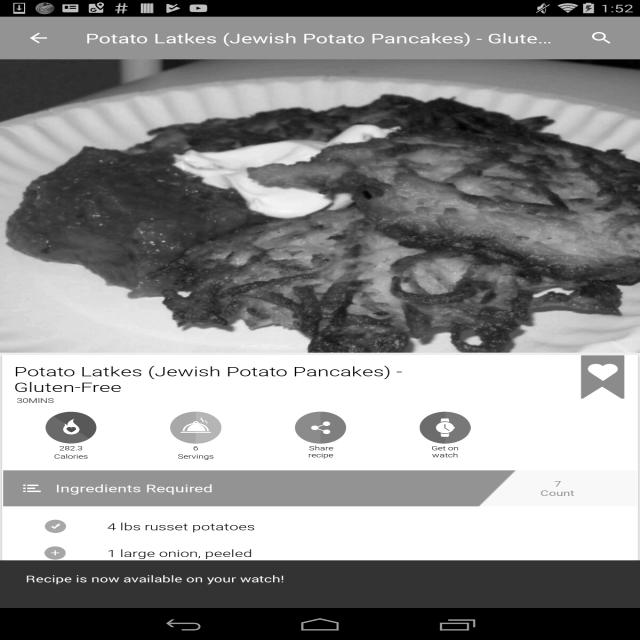Button: (8, 332, 318, 364), (322, 332, 632, 364), (8, 366, 318, 398), (322, 366, 632, 398), (513, 412, 626, 444)
ImageButton: (9, 17, 68, 59)
ImageView: (0, 59, 640, 353), (0, 59, 640, 326), (0, 445, 640, 640), (146, 454, 338, 594), (354, 454, 546, 594), (562, 454, 640, 594), (14, 412, 128, 444), (138, 412, 252, 444), (264, 412, 378, 444), (388, 412, 502, 444), (567, 355, 637, 399), (3, 546, 107, 560), (3, 520, 107, 533), (3, 573, 107, 586), (3, 600, 107, 613)
TextView: (4, 471, 478, 506), (14, 362, 468, 396), (11, 406, 526, 435), (85, 29, 555, 47), (0, 286, 640, 299), (107, 546, 626, 560), (107, 573, 626, 587), (107, 520, 626, 533), (107, 600, 626, 613), (478, 471, 637, 506), (14, 396, 626, 405), (354, 594, 546, 620), (146, 594, 338, 610), (526, 406, 630, 435), (478, 366, 637, 379), (572, 22, 631, 54), (264, 444, 378, 459), (388, 444, 502, 459), (562, 594, 640, 609), (14, 444, 128, 452), (14, 452, 128, 460), (138, 444, 252, 452), (138, 452, 252, 460)
